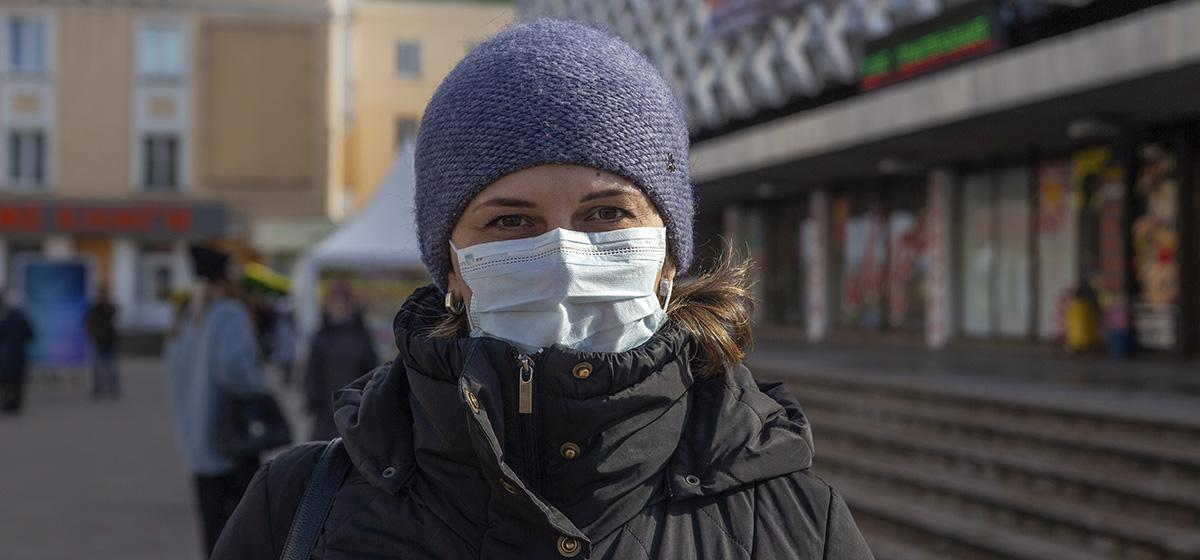mask: (444, 167, 669, 357)
